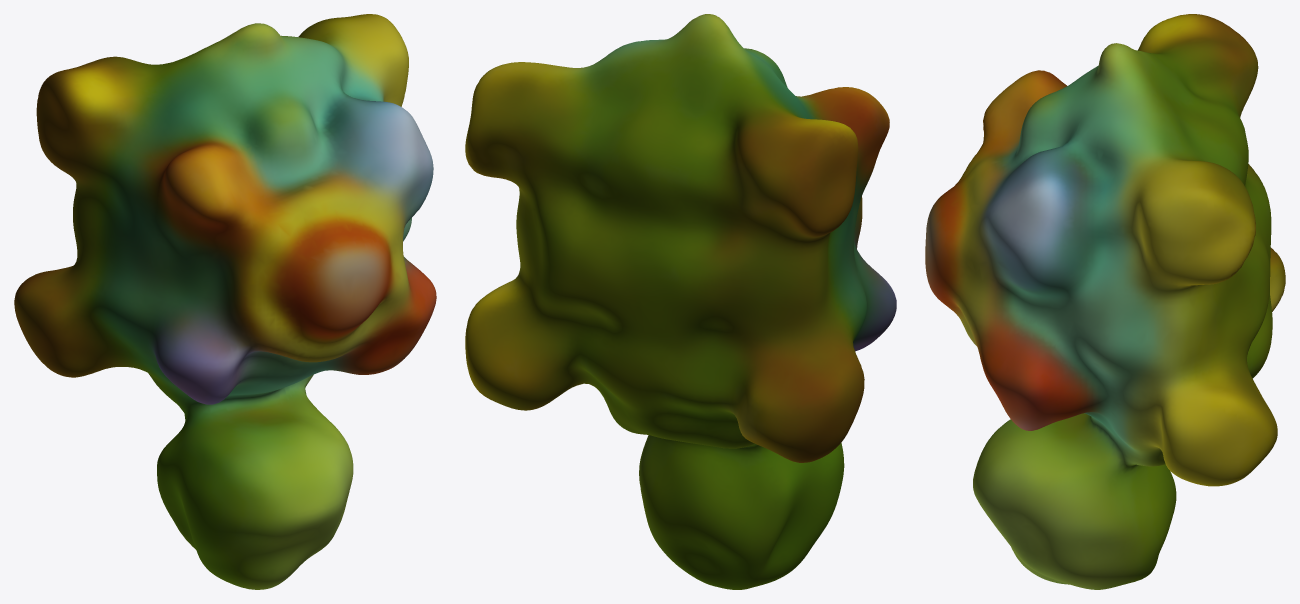
The model's file is turtle.glb.
3 views of the same model, side by side, from view 1: azimuth 30°, elevation 25°; view 2: azimuth 150°, elevation 25°; view 3: azimuth 270°, elevation 25° (orthographic). The views are drawn at different scales.
Bounding box in the file's own units: 0.7035 × 0.999 × 0.597.
